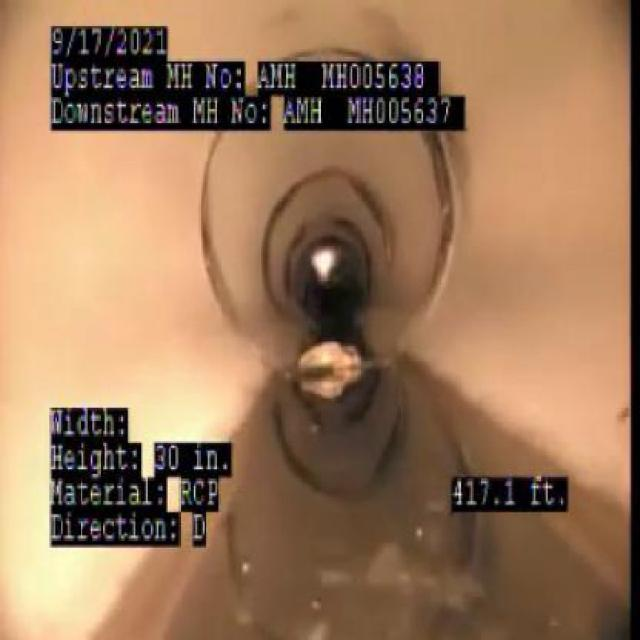Debris: (287, 323, 378, 397)
